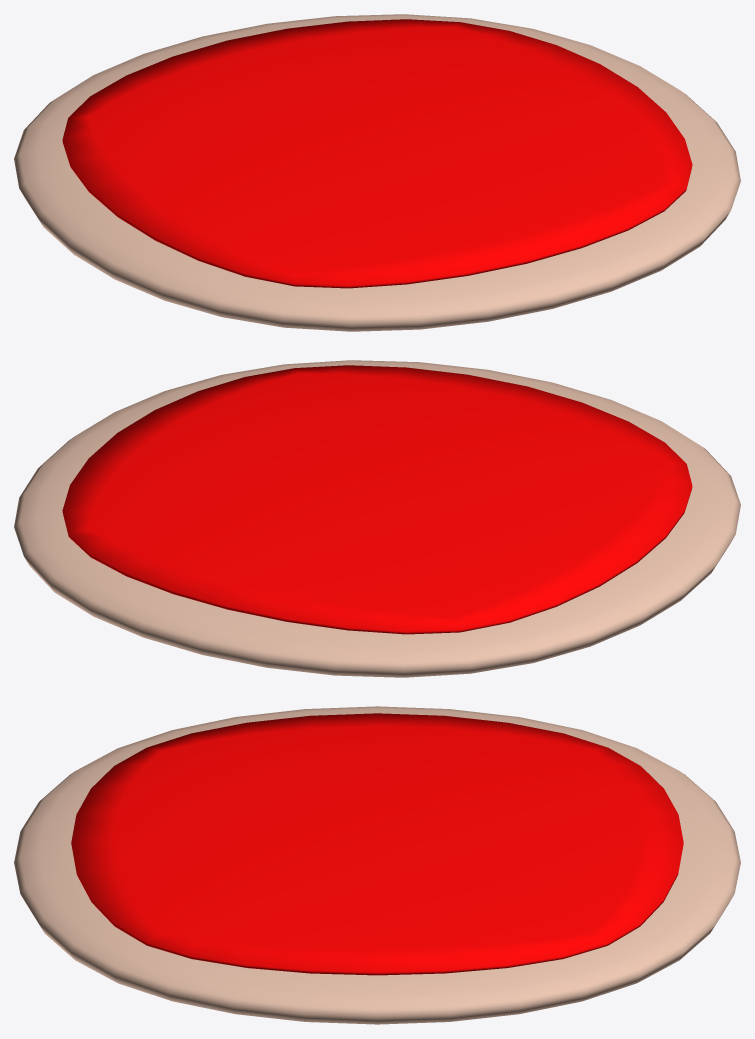
File: doughSauce.fbx
The picture shows the model from 3 angles, top to bottom: view 1: azimuth 30°, elevation 25°; view 2: azimuth 150°, elevation 25°; view 3: azimuth 270°, elevation 25°; orthographic projection.
Parts seen in each view (by area): view 1: Cube.002, Cube.001; view 2: Cube.002, Cube.001; view 3: Cube.002, Cube.001.
Boxes of the visible parts, <box> form: Cube.002: <box>62,19,692,288</box>; Cube.001: <box>14,14,740,331</box>; Cube.002: <box>62,365,692,634</box>; Cube.001: <box>14,360,740,677</box>; Cube.002: <box>71,713,683,975</box>; Cube.001: <box>14,706,740,1024</box>.
Size of the model in its own units: 388 by 26.37 by 388.
